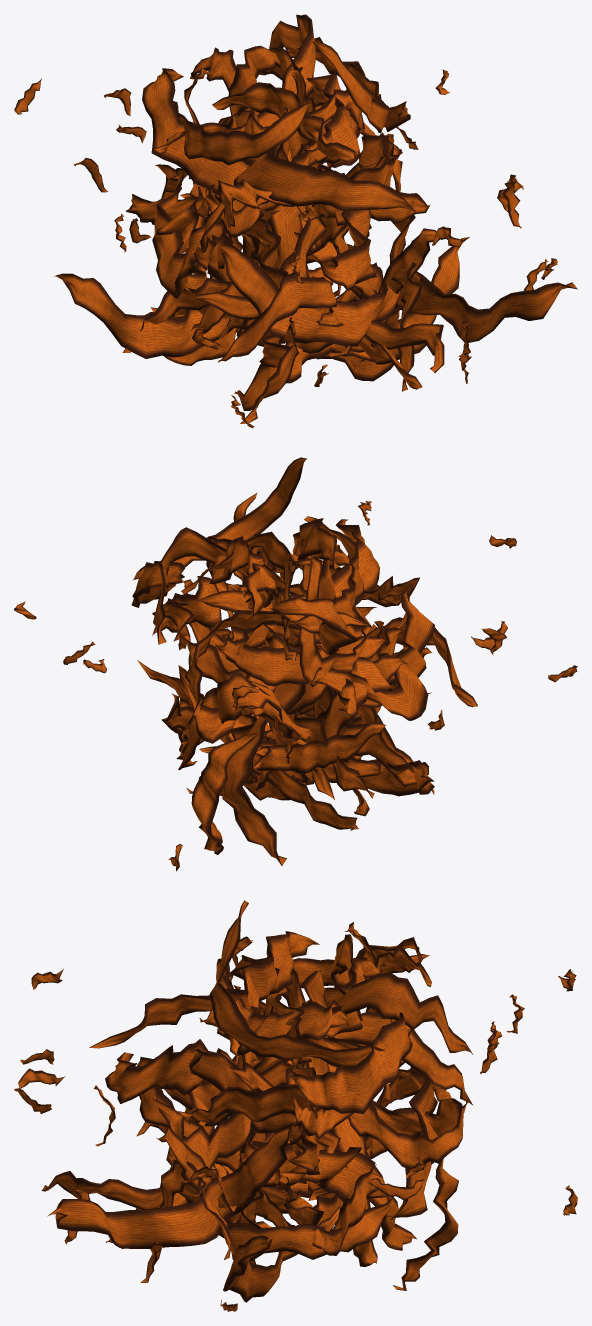
The model's file is fried-onions.glb.
The picture shows the model from 3 angles, top to bottom: view 1: azimuth 30°, elevation 25°; view 2: azimuth 150°, elevation 25°; view 3: azimuth 270°, elevation 25°; orthographic projection. The views are drawn at different scales.
Parts seen in each view (by area): view 1: crispy-birista-cluster; view 2: crispy-birista-cluster; view 3: crispy-birista-cluster.
Boxes of the visible parts, x1,y1,x2,y2 form: crispy-birista-cluster: (14,14,577,428); crispy-birista-cluster: (14,457,577,871); crispy-birista-cluster: (14,900,577,1311).
Bounding box in the file's own units: 0.1368 × 0.1066 × 0.1445.
Materials: 1 (1 with a texture image).
